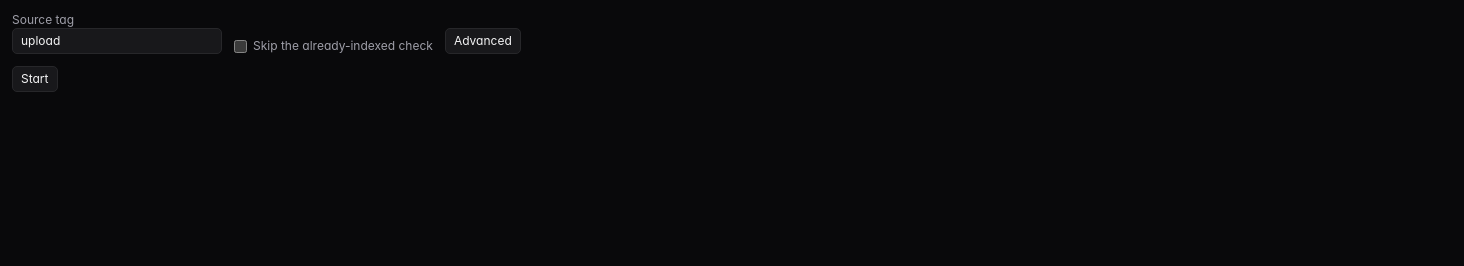
IngestRunPanel › shows the served per-file error in the Failed tab
The image size is (1464, 266).
Click the button "Start" at (35, 79), box x1=12 y1=66 x2=58 y2=92
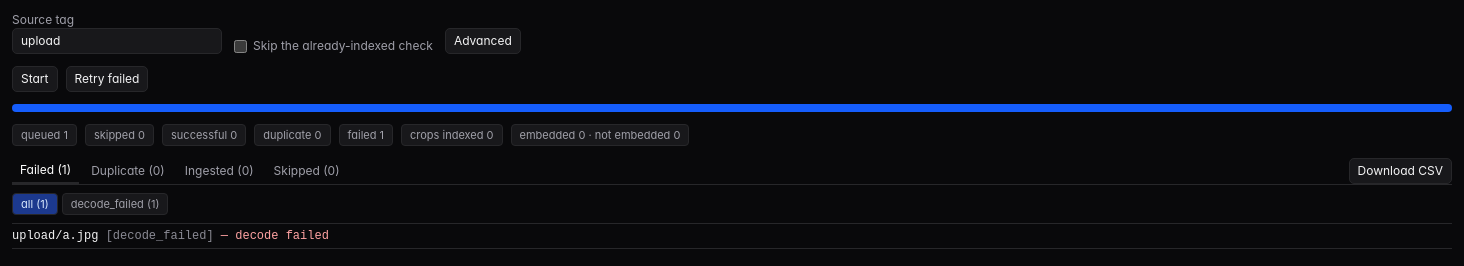
Expected: the text "decode failed" is shown, x1=221 y1=229 x2=329 y2=243
